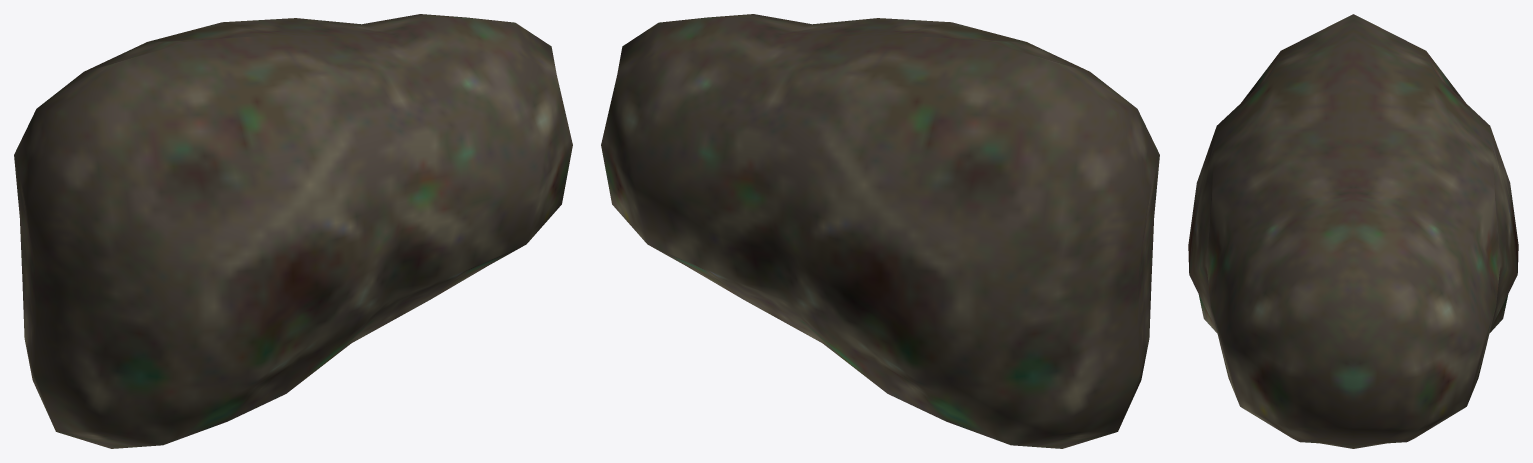
File: aerolite03.FBX
3 views of the same model, side by side, from view 1: azimuth 30°, elevation 25°; view 2: azimuth 150°, elevation 25°; view 3: azimuth 270°, elevation 25° (orthographic).
Parts seen in each view (by area): view 1: aerolite03; view 2: aerolite03; view 3: aerolite03.
Boxes of the visible parts, <box> form: aerolite03: <box>14,14,572,448</box>; aerolite03: <box>601,14,1159,448</box>; aerolite03: <box>1188,14,1518,448</box>.
Size of the model in its own units: 1431 by 995 by 773.
